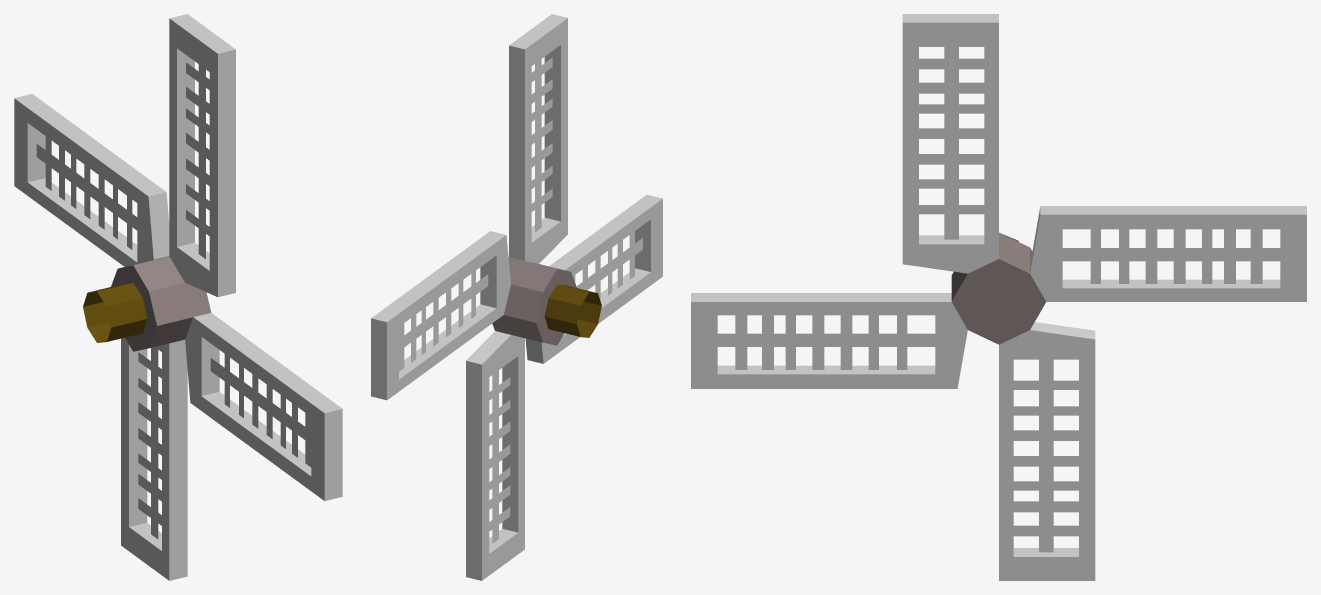
Rendered from obj_sails_1_0.obj.
3 renders of one model, left to right at view 1: azimuth 30°, elevation 25°; view 2: azimuth 150°, elevation 25°; view 3: azimuth 270°, elevation 25°, orthographic. The views are drawn at different scales.
Bounding box in the file's own units: 0.5469 × 3.25 × 3.25.
